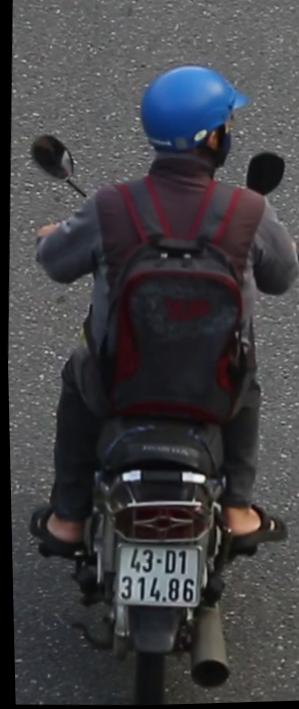LP: (106, 528, 205, 629)
helmet: (133, 56, 250, 182)
